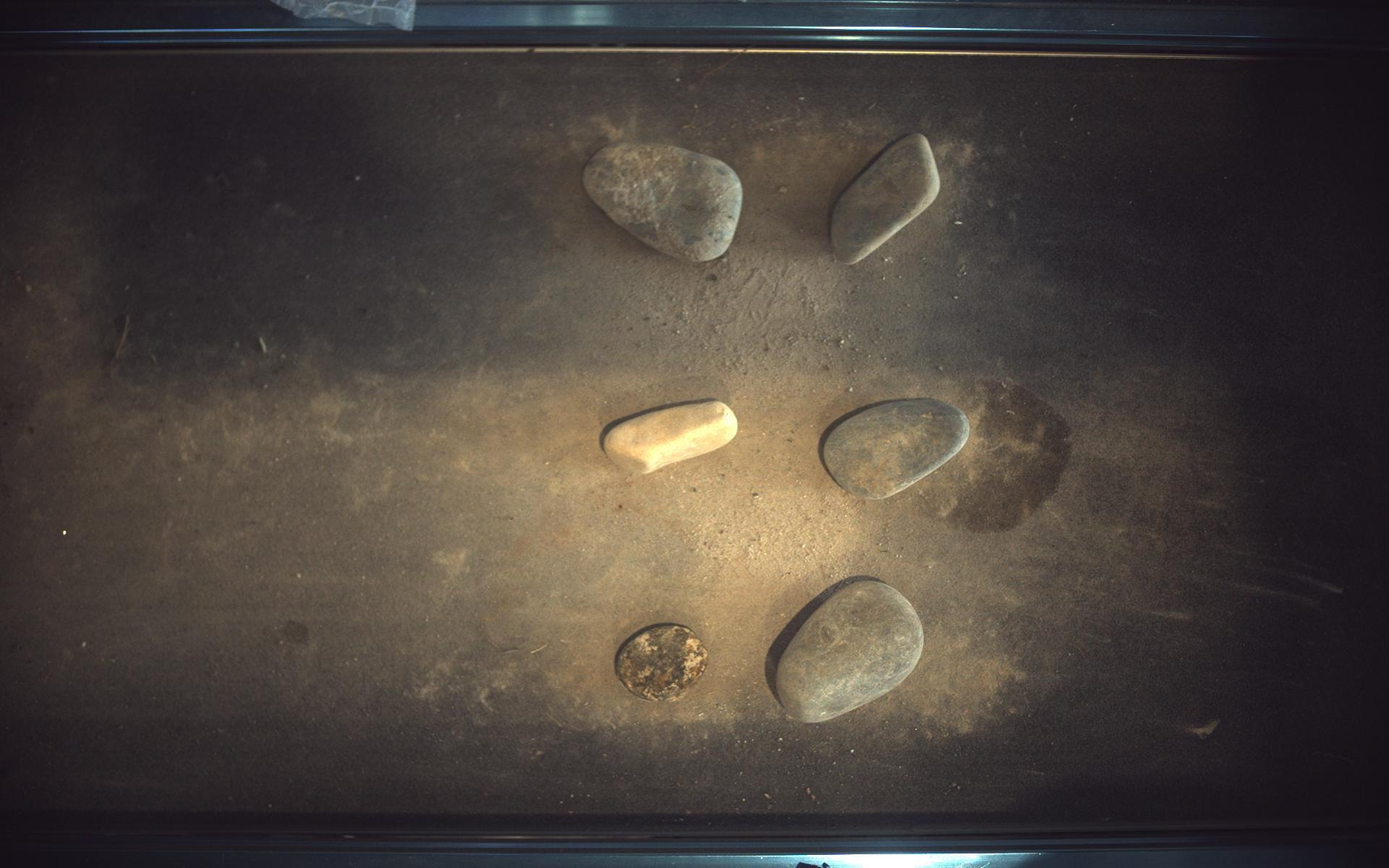stone: (778, 582, 925, 724), (584, 142, 744, 261), (824, 399, 972, 500), (833, 132, 942, 264), (604, 401, 739, 475), (616, 625, 708, 702)
